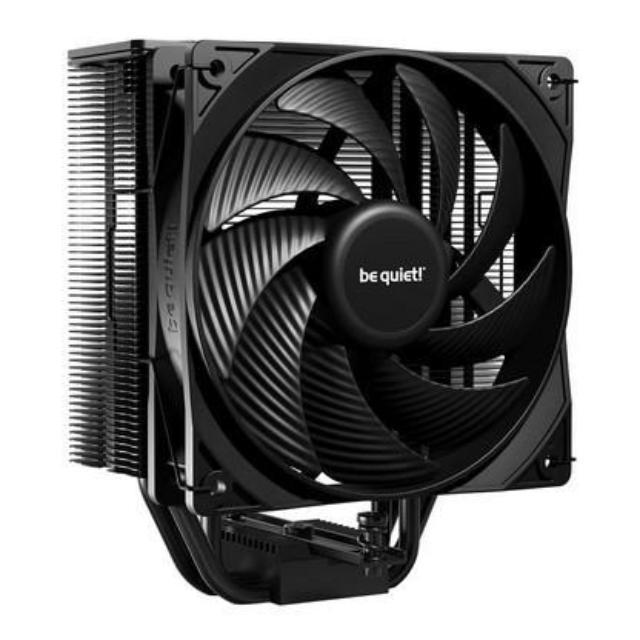CPU_Fan: (57, 34, 575, 608)
